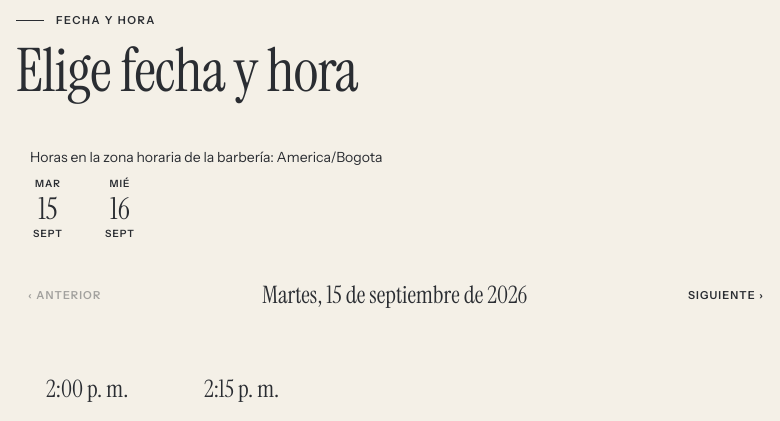
Test: PublicAvailabilityPage › offers a strip of the days with availability and jumps to the chosen day (DEC-111)
Expected: the button "mar 15 sept" is shown, [16,167,80,253]
Click the button "mié 16 sept": coordinates (120, 210) [88,167,152,253]
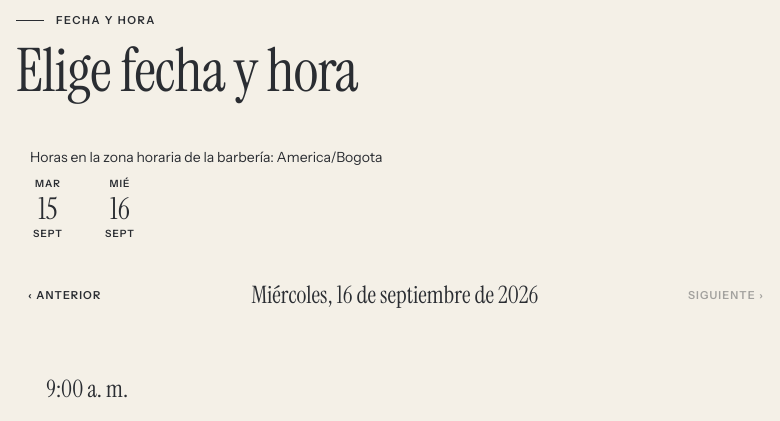
Now the message "miércoles, 16 de septiembre de 2026" is shown, box [251,279,538,310]
Now the number of radio buttons is 1, box [46,373,128,404]
